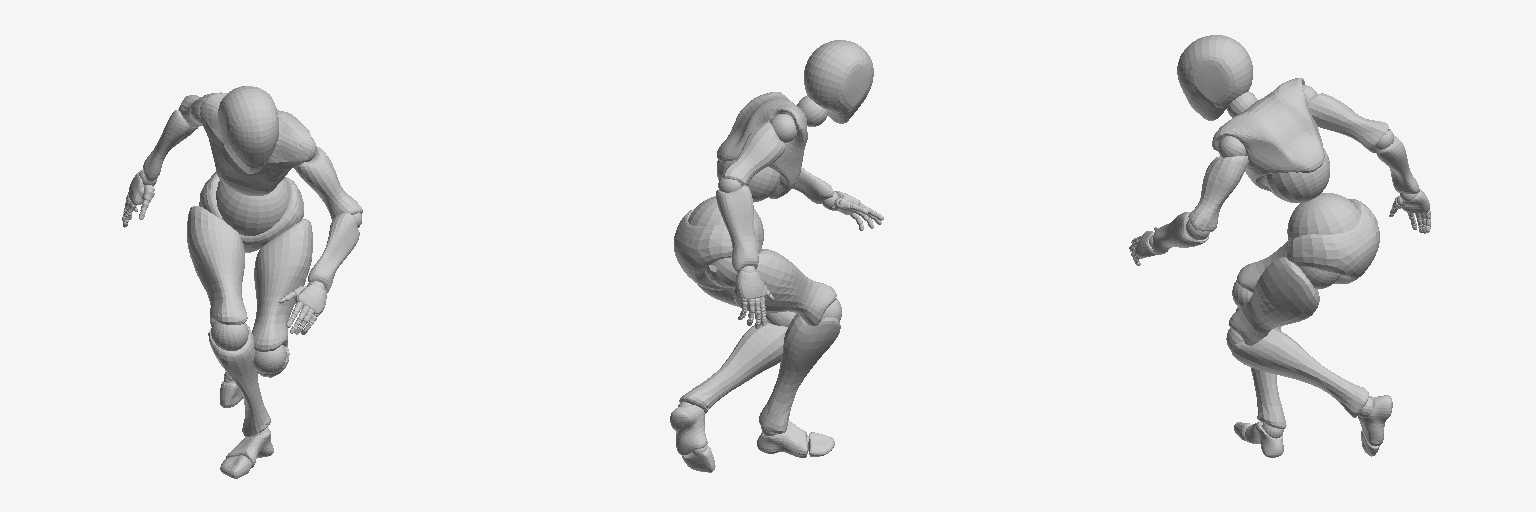
3 renders of one model, left to right at view 1: azimuth 30°, elevation 25°; view 2: azimuth 150°, elevation 25°; view 3: azimuth 270°, elevation 25°, orthographic.
Parts seen in each view (by area): view 1: Beta_Surface, Beta_Joints; view 2: Beta_Surface, Beta_Joints; view 3: Beta_Surface, Beta_Joints.
Part boxes in pixels (bbox=[...]): Beta_Surface: bbox=[122, 86, 362, 478]; Beta_Joints: bbox=[122, 105, 361, 468]; Beta_Surface: bbox=[670, 40, 883, 472]; Beta_Joints: bbox=[678, 96, 878, 455]; Beta_Surface: bbox=[1129, 35, 1430, 457]; Beta_Joints: bbox=[1130, 85, 1430, 439].
Size of the model in its own units: 0.4842 by 1.41 by 0.9656.